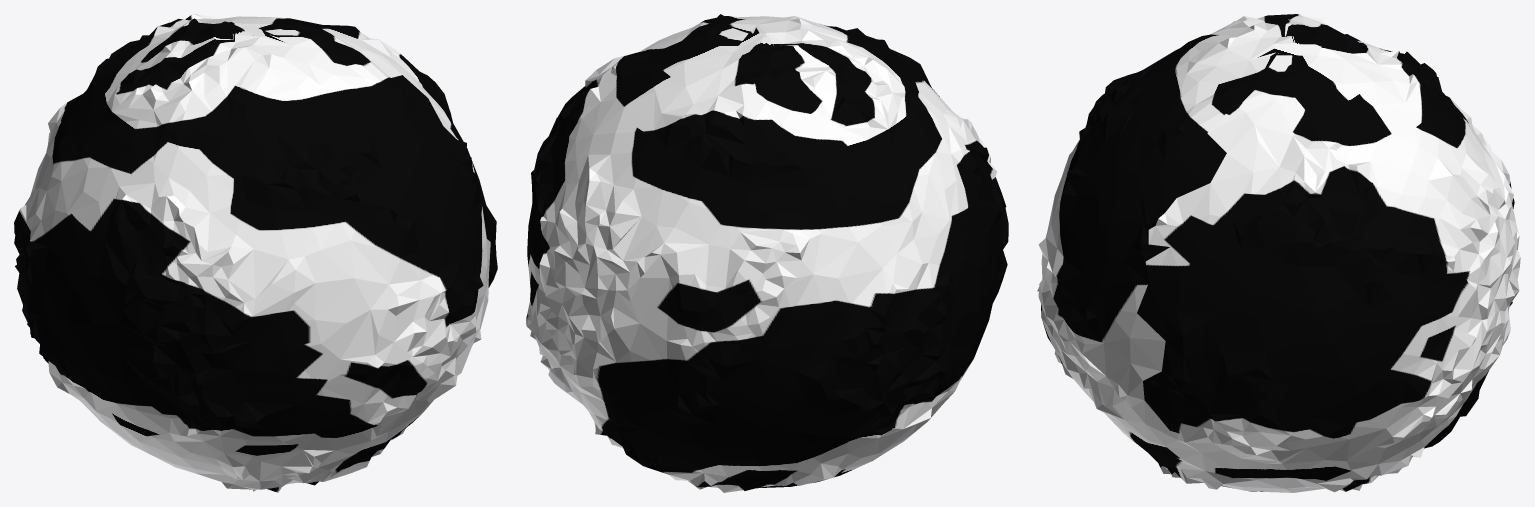
The model's file is SM_Env_Planet_02.fbx.
3 views of the same model, side by side, from view 1: azimuth 30°, elevation 25°; view 2: azimuth 150°, elevation 25°; view 3: azimuth 270°, elevation 25° (orthographic).
Parts seen in each view (by area): view 1: SM_Env_Planet_02_LOD0; view 2: SM_Env_Planet_02_LOD0; view 3: SM_Env_Planet_02_LOD0.
Part boxes in pixels (x1=…): SM_Env_Planet_02_LOD0: x1=14, y1=14, x2=497, y2=492; SM_Env_Planet_02_LOD0: x1=526, y1=14, x2=1008, y2=492; SM_Env_Planet_02_LOD0: x1=1037, y1=14, x2=1520, y2=492.
Bounding box in the file's own units: 46247 × 45597 × 45434.
1 material, 1 textured.
